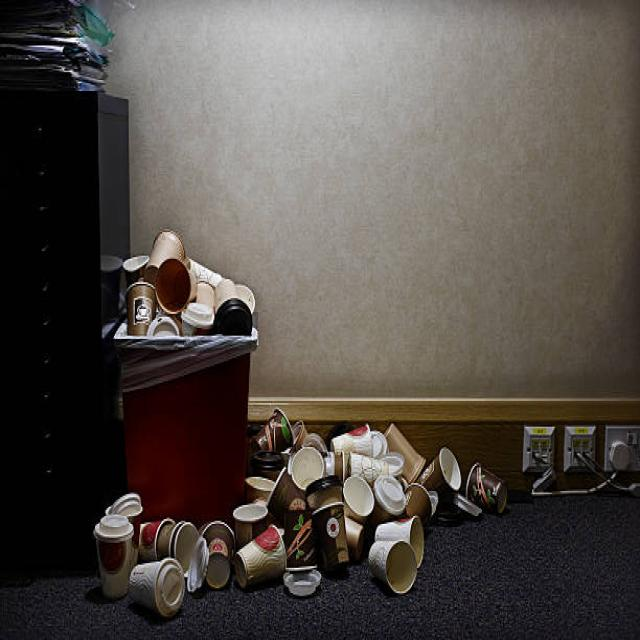paper: (1, 14, 109, 79)
plastic: (103, 419, 483, 604), (121, 226, 262, 332)
